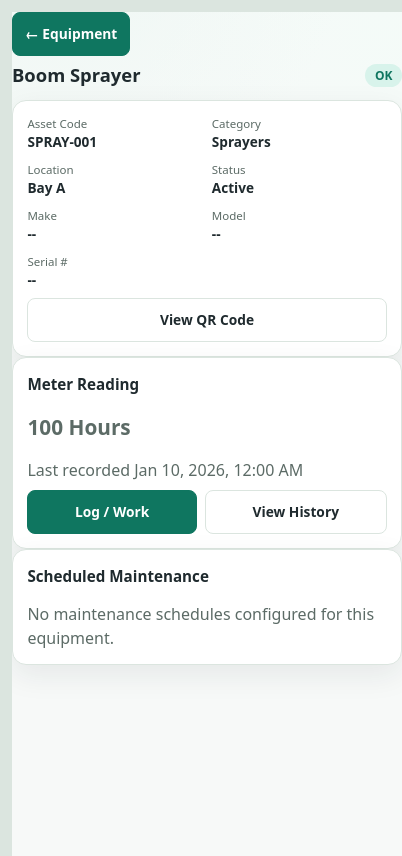
Test: MobileMaintenanceEquipmentDetailPage — Log / Work and unified history › shows an empty state, not an error, when history is genuinely empty
The image size is (402, 856).
Step 1. Click the button "View History" → [296, 512], box [205,490,387,534]
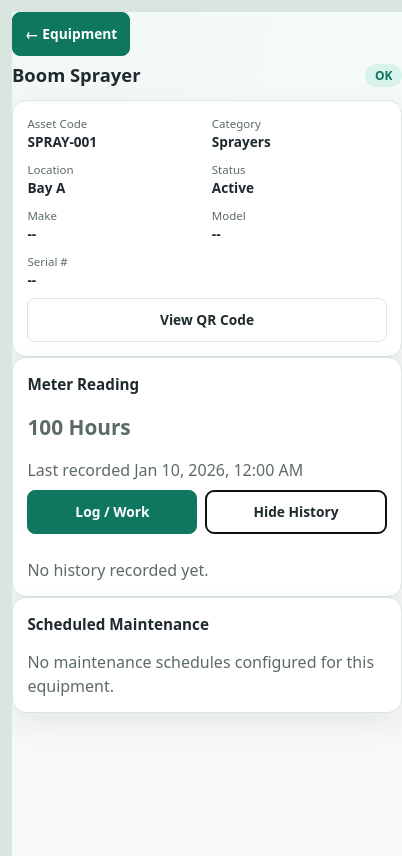
Check: the text "No history recorded yet." is shown, box [27,558,208,580]
